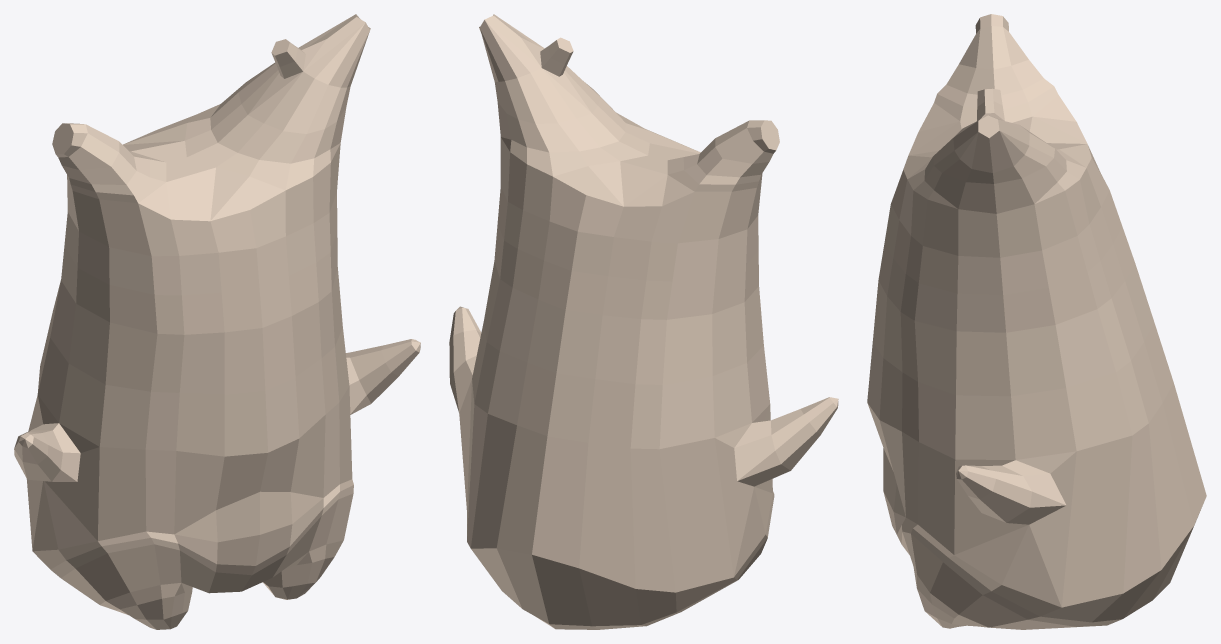
File: frame_0111.obj
3 views of the same model, side by side, from view 1: azimuth 30°, elevation 25°; view 2: azimuth 150°, elevation 25°; view 3: azimuth 270°, elevation 25° (orthographic). The views are drawn at different scales.
Visible parts, largest first — view 1: korok; view 2: korok; view 3: korok.
Part boxes in pixels (x1,y1,x2,y2): korok: (14,14,420,629); korok: (449,14,838,629); korok: (867,14,1206,629).
Bounding box in the file's own units: 1.46 × 1.94 × 1.06.
